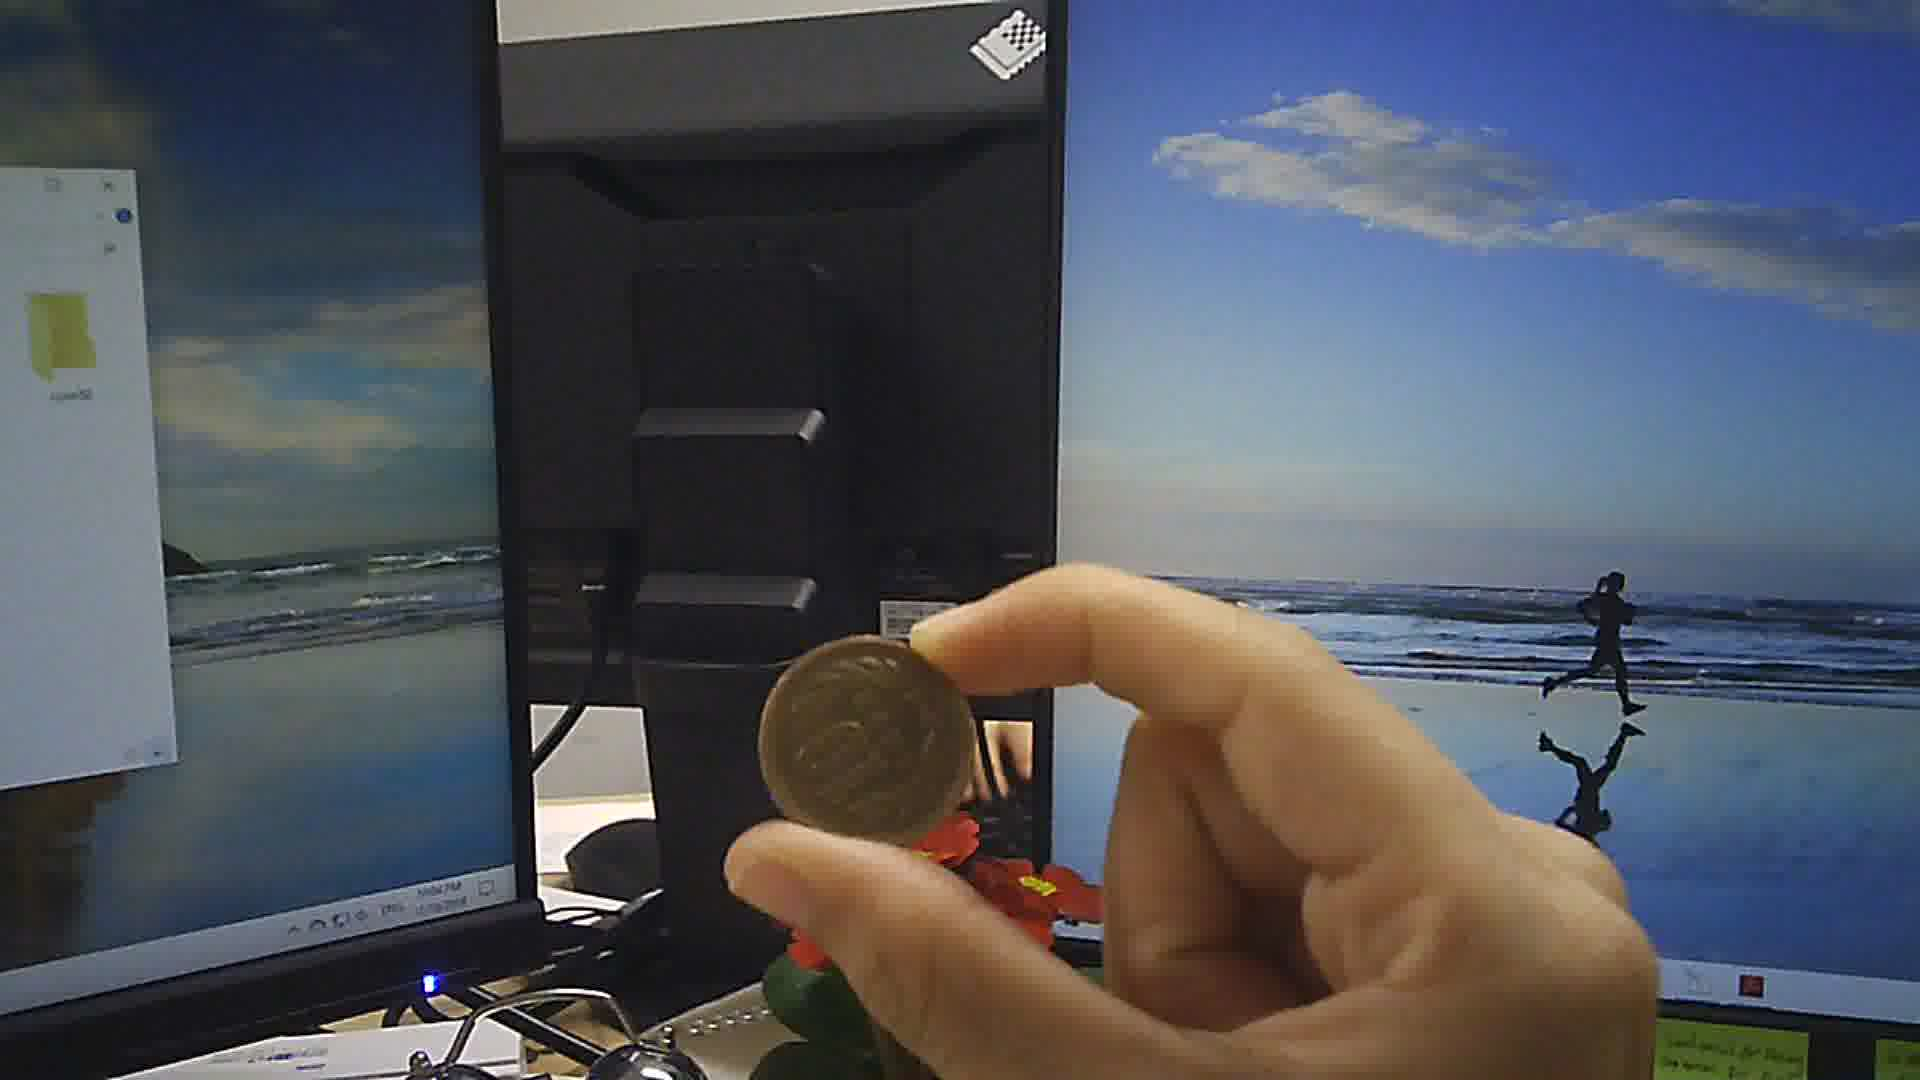10 Yen: (758, 640, 976, 855)
